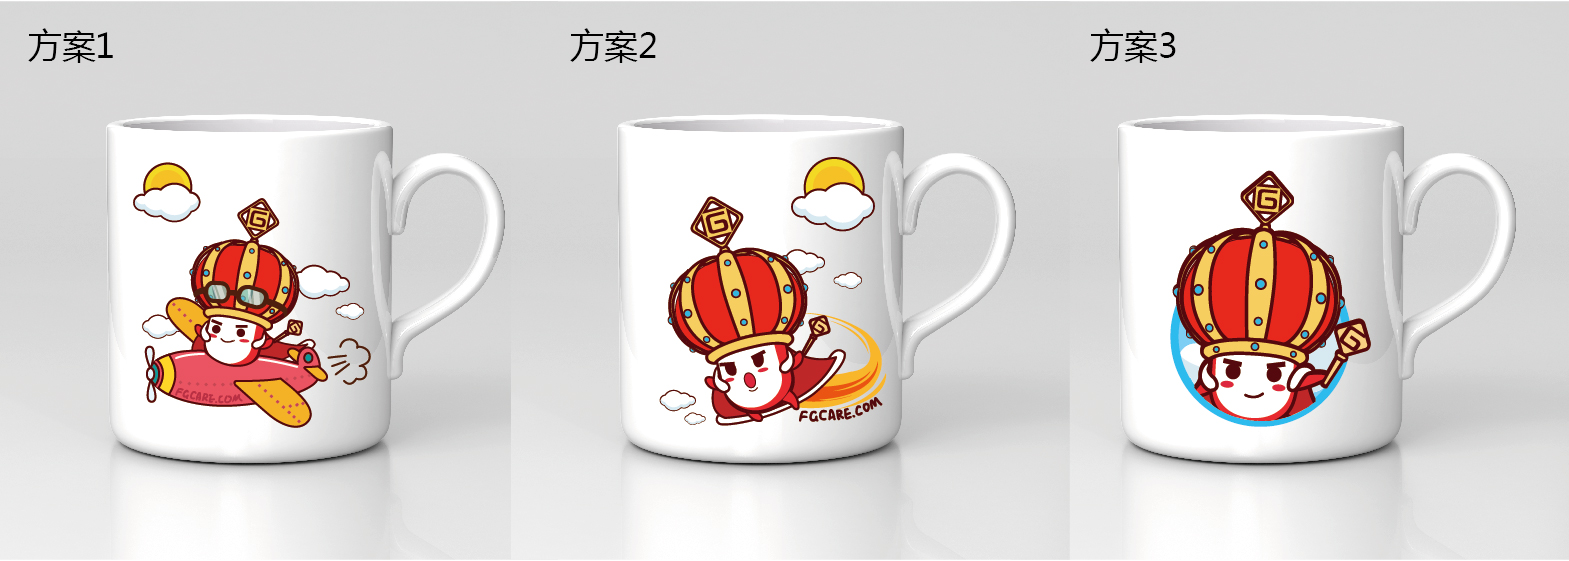cup: (100, 109, 508, 469), (1109, 107, 1518, 466), (611, 112, 1017, 467)
